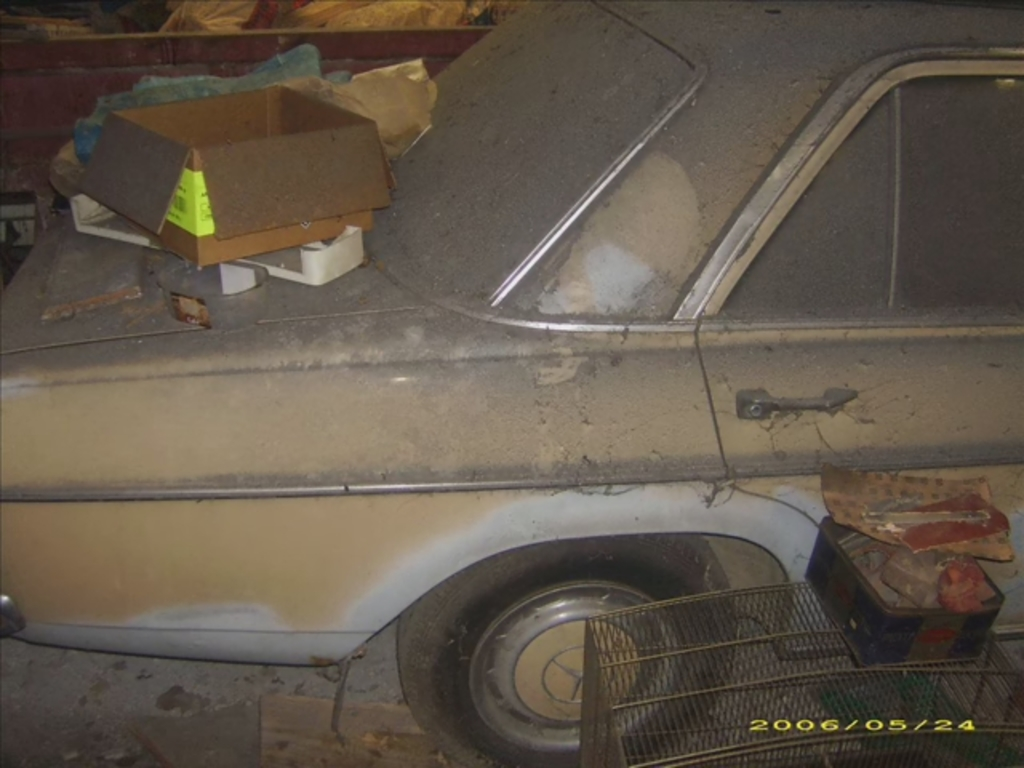Car: (0, 70, 1016, 768)
